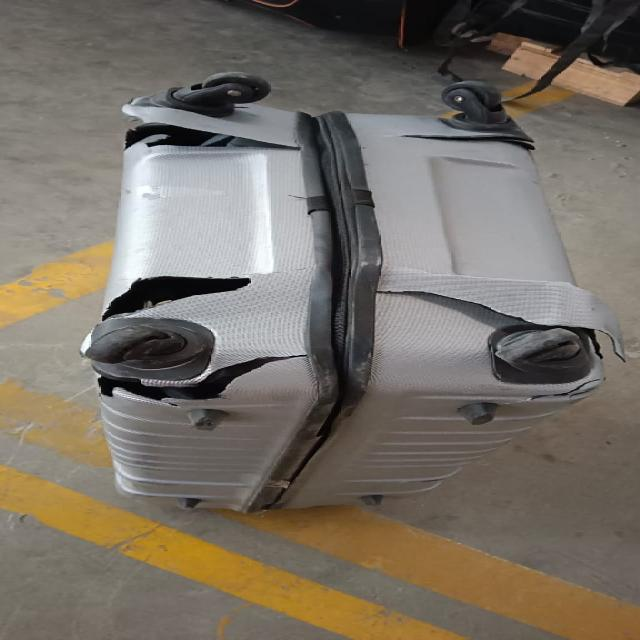Damage-bag: (378, 269, 622, 357), (100, 356, 293, 400), (522, 329, 603, 418), (103, 276, 250, 318), (126, 124, 297, 148), (403, 130, 533, 150), (528, 320, 583, 328)
